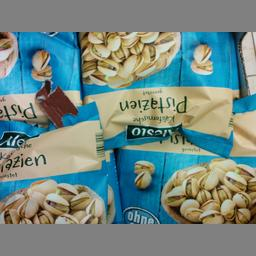nuts: (76, 31, 234, 158), (111, 96, 255, 223), (0, 104, 120, 222)
